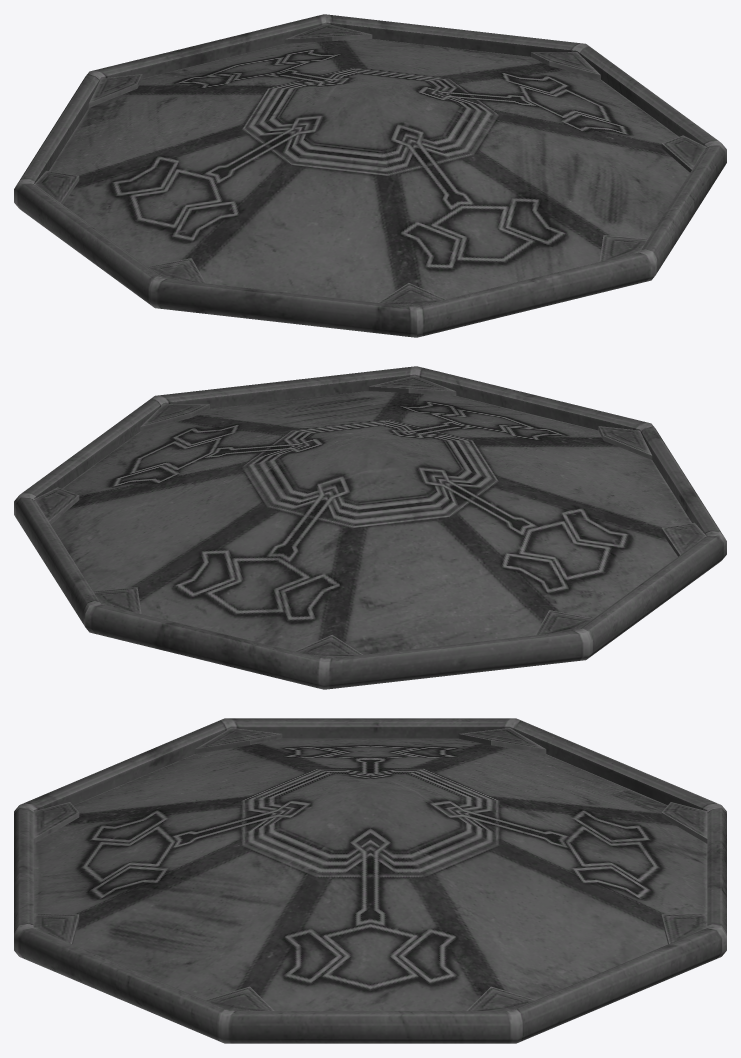
File: sm_dwarf_erebor_shield_metal_b.fbx
3 views of the same model, one above another, from view 1: azimuth 30°, elevation 25°; view 2: azimuth 150°, elevation 25°; view 3: azimuth 270°, elevation 25° (orthographic). The views are drawn at different scales.
Parts seen in each view (by area): view 1: sm_dwarf_erebor_shield_metal_b; view 2: sm_dwarf_erebor_shield_metal_b; view 3: sm_dwarf_erebor_shield_metal_b.
Part boxes in pixels (box(x1,y1,x2,y2)): sm_dwarf_erebor_shield_metal_b: box(14, 14, 726, 337); sm_dwarf_erebor_shield_metal_b: box(14, 366, 726, 689); sm_dwarf_erebor_shield_metal_b: box(14, 718, 726, 1043).
Size of the model in its own units: 0.6475 by 0.6475 by 0.1447.
Materials: 1 (1 with a texture image).
